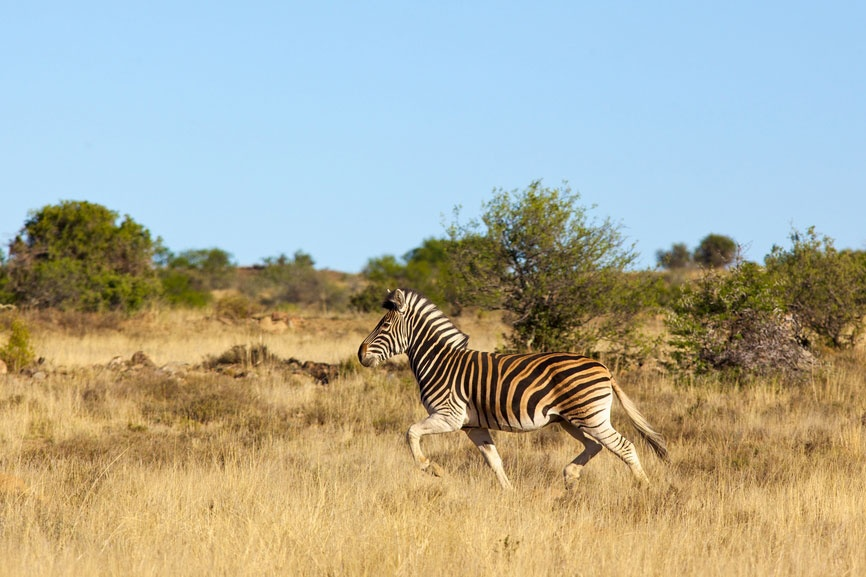zebra: (512, 398, 825, 577)
